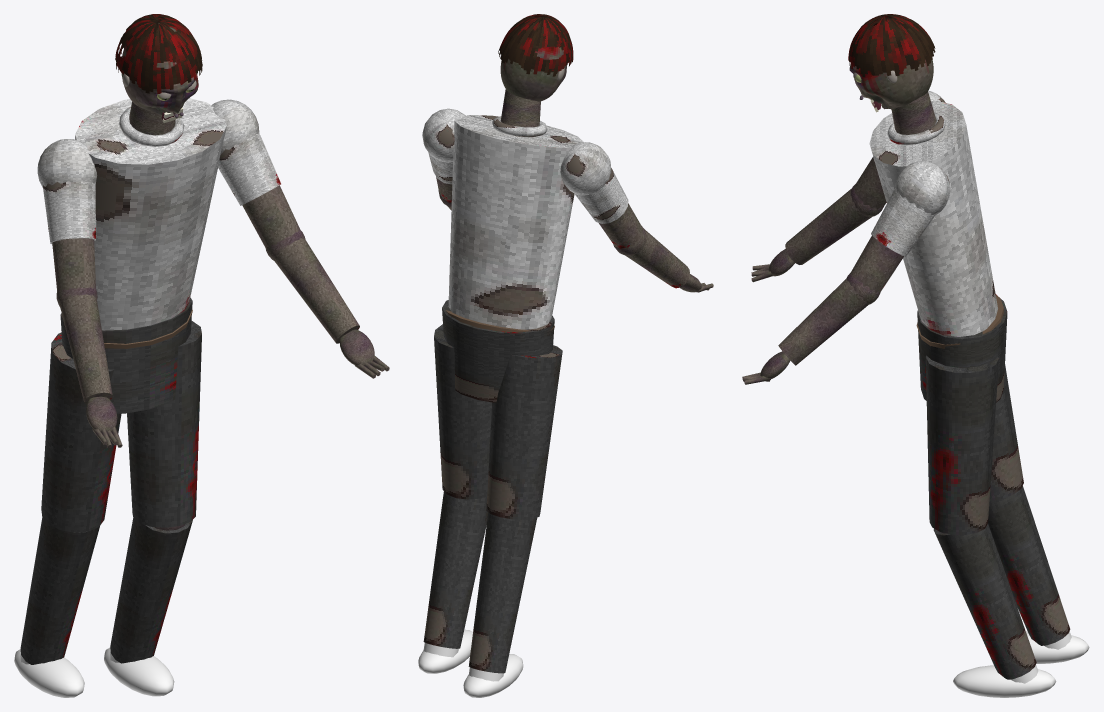
File: Zombie_013.glb
The picture shows the model from 3 angles, left to right: view 1: azimuth 30°, elevation 25°; view 2: azimuth 150°, elevation 25°; view 3: azimuth 270°, elevation 25°; orthographic projection. The views are drawn at different scales.
Visible parts, largest first — view 1: Zombie_013, object 43, object 10, object 3, object 16, object 11, object 4; view 2: Zombie_013, object 43, object 16, object 3; view 3: Zombie_013, object 43, object 10, object 3, object 16.
Part boxes in pixels (bbox=[...]): Zombie_013: bbox=[14, 98, 300, 697]; object 43: bbox=[115, 14, 202, 91]; object 10: bbox=[273, 238, 359, 343]; object 3: bbox=[60, 294, 112, 404]; object 16: bbox=[121, 23, 198, 115]; object 11: bbox=[339, 329, 374, 365]; object 4: bbox=[86, 396, 117, 432]; Zombie_013: bbox=[418, 89, 642, 697]; object 43: bbox=[498, 14, 573, 73]; object 16: bbox=[500, 46, 566, 101]; object 3: bbox=[625, 229, 689, 288]; Zombie_013: bbox=[850, 90, 1089, 697]; object 43: bbox=[848, 14, 935, 74]; object 10: bbox=[778, 278, 868, 365]; object 3: bbox=[785, 188, 871, 264]; object 16: bbox=[849, 59, 933, 109].
Size of the model in its own units: 0.8256 by 2.03 by 0.9688.
Materials: 16 (6 with a texture image).
